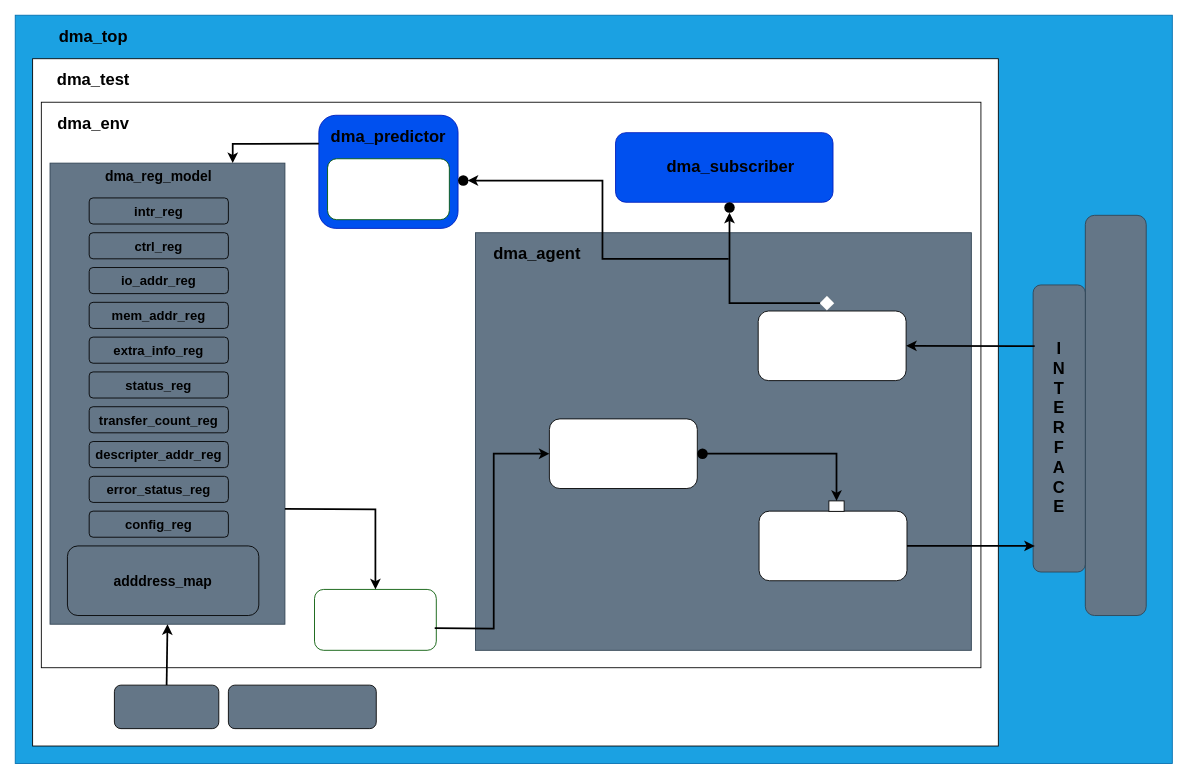
This 1188x779 diagram has some shape labels left out. Each missing label, with the box of its shape:
D U T: (1084, 214, 1146, 616)
dma_driver: (758, 510, 907, 581)
dma_monitor: (757, 310, 906, 381)
dma_sequence: (114, 684, 219, 729)
dma_sequence_item: (228, 684, 376, 729)
dma_sequencer: (549, 418, 697, 489)
